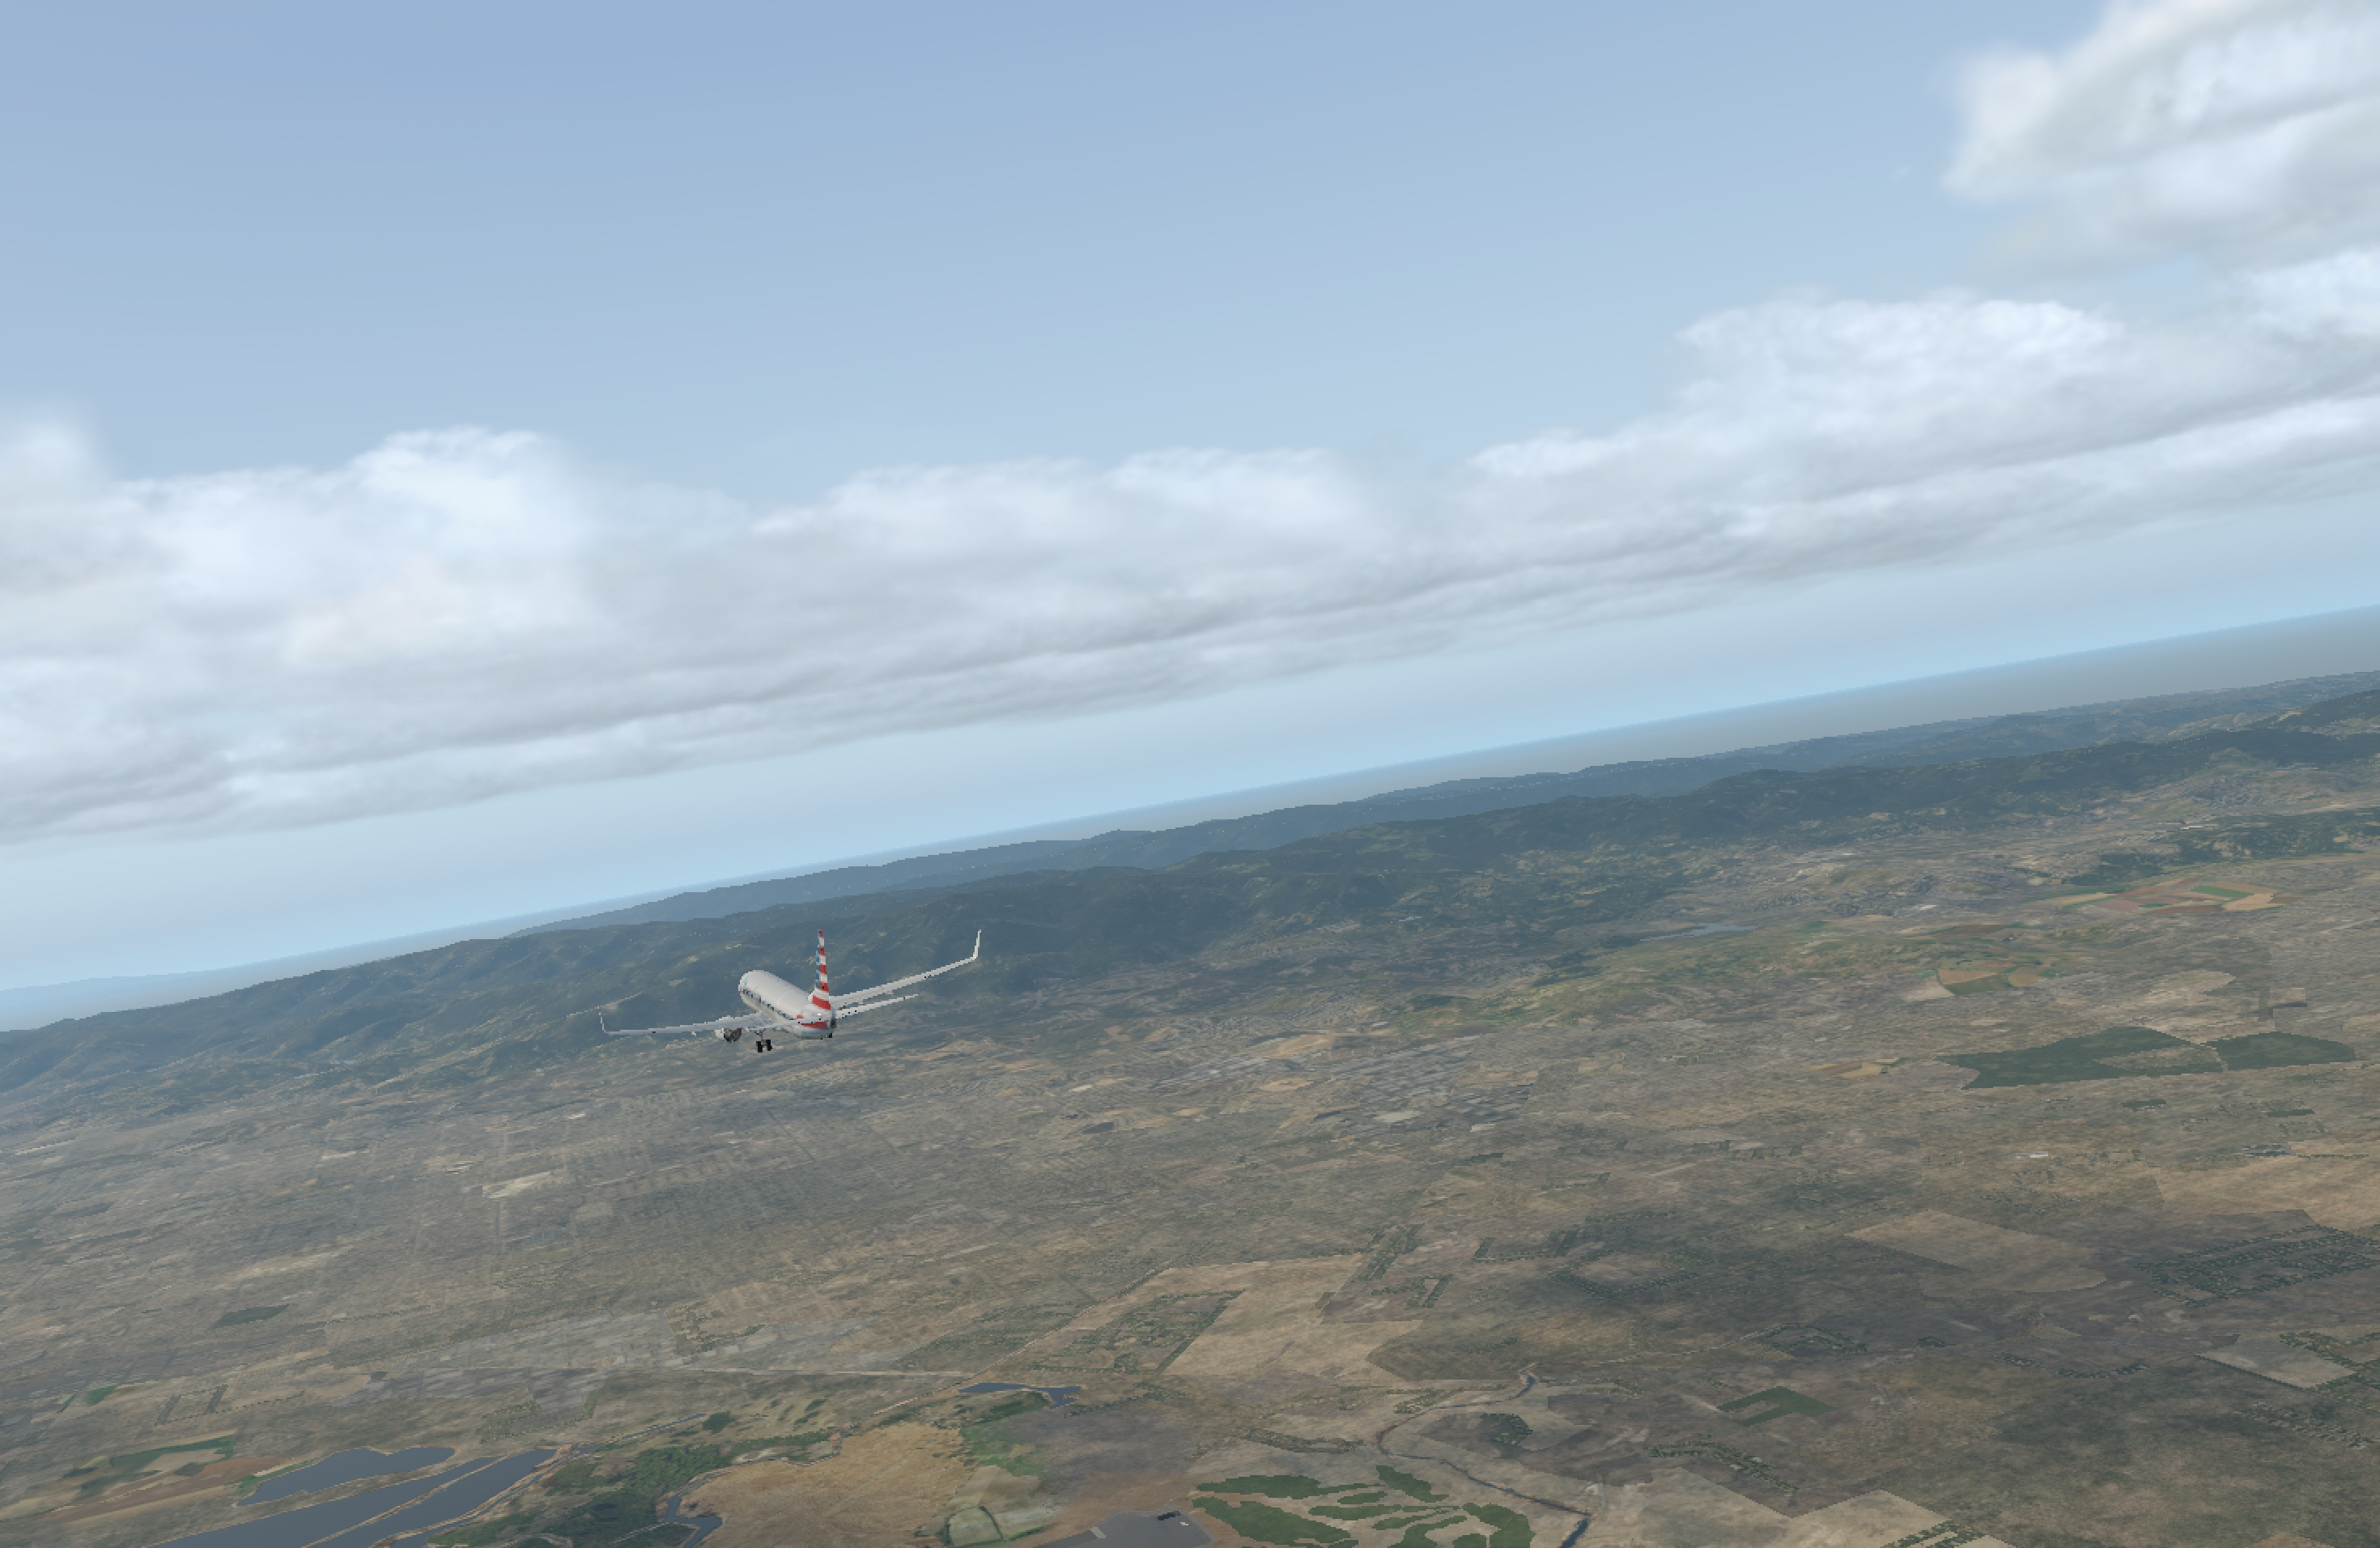aircraft: (579, 934, 994, 1090)
